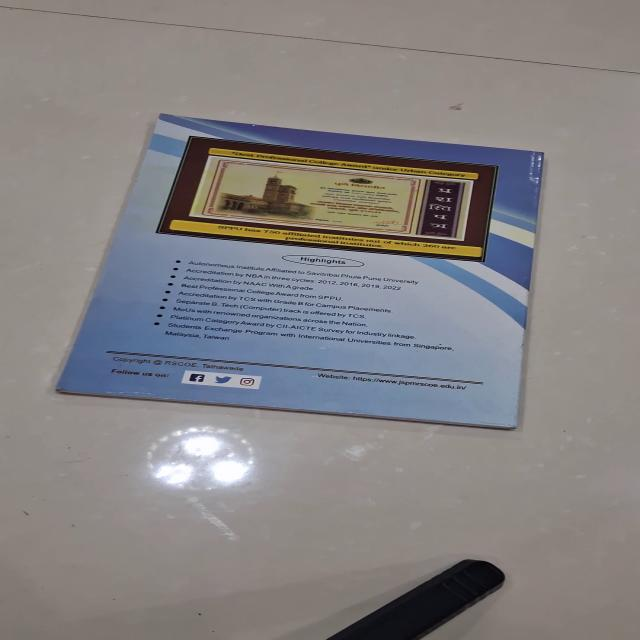paper: (53, 113, 545, 430)
